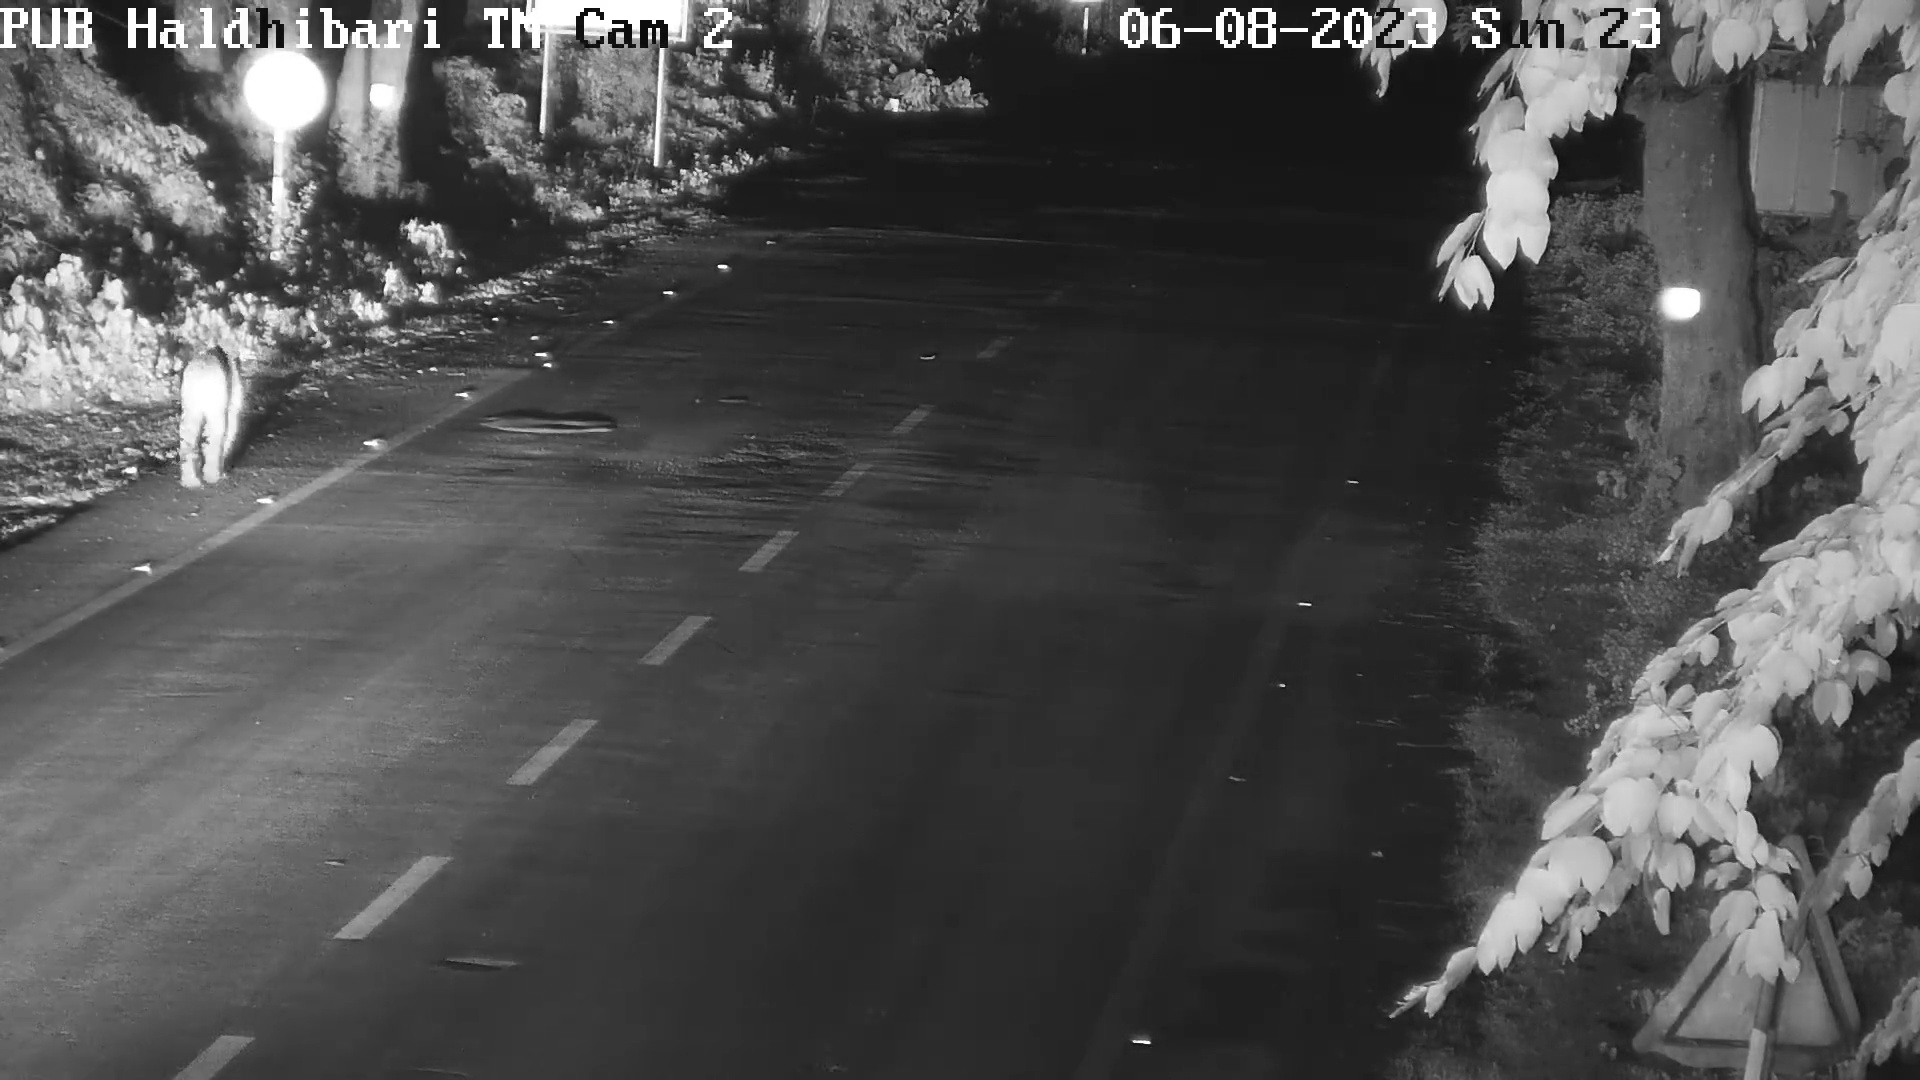tigers: (171, 347, 241, 491)
